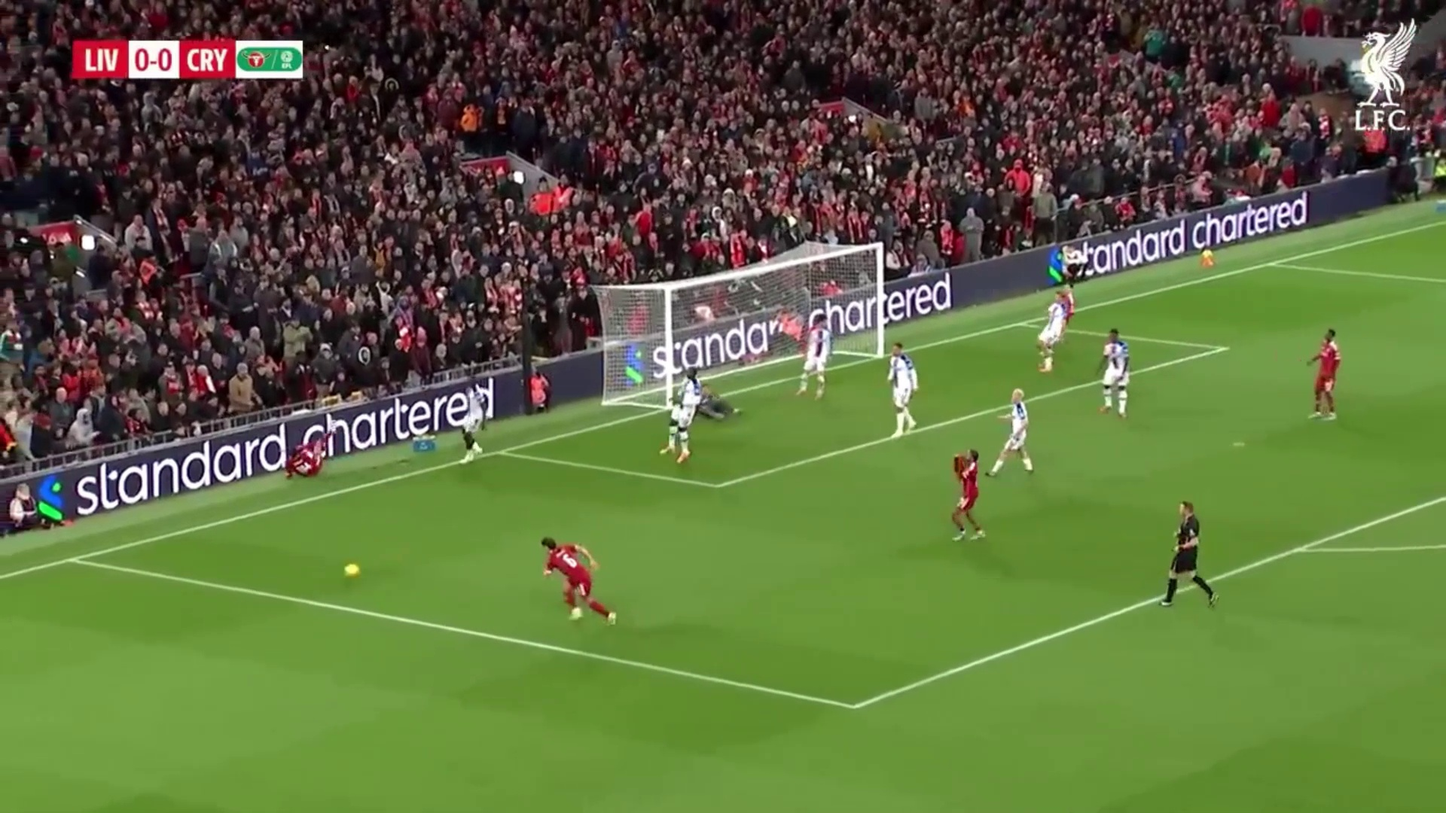player: (660, 370, 738, 466), (539, 536, 618, 624), (1161, 499, 1217, 610), (991, 386, 1036, 478), (660, 369, 701, 463), (948, 448, 988, 542), (1035, 290, 1073, 376), (796, 311, 832, 400), (1308, 328, 1341, 420), (1098, 327, 1131, 419), (888, 346, 919, 438)
